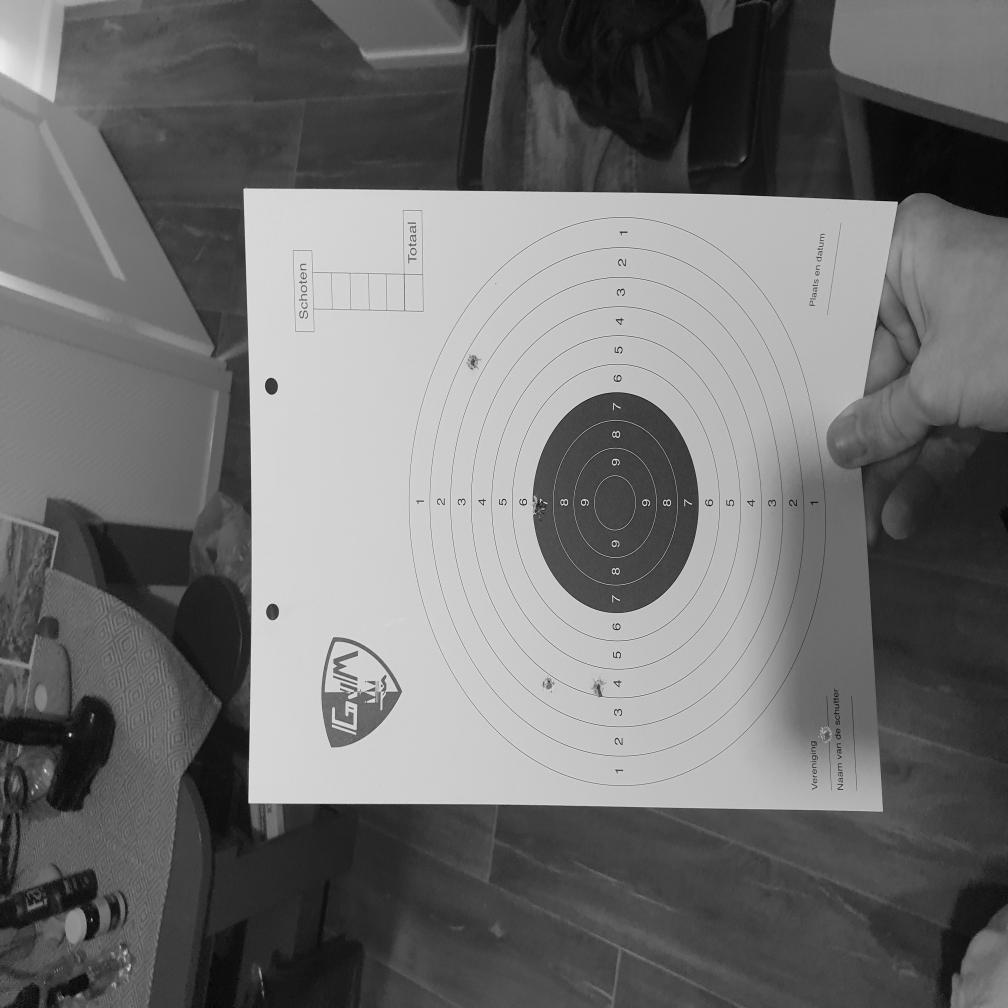0: (819, 726, 832, 743)
2: (466, 354, 481, 370)
3: (542, 676, 555, 695)
4: (591, 678, 606, 698)
7: (532, 496, 546, 521)
Target: (407, 213, 826, 784)
black_contour: (532, 392, 699, 612)
